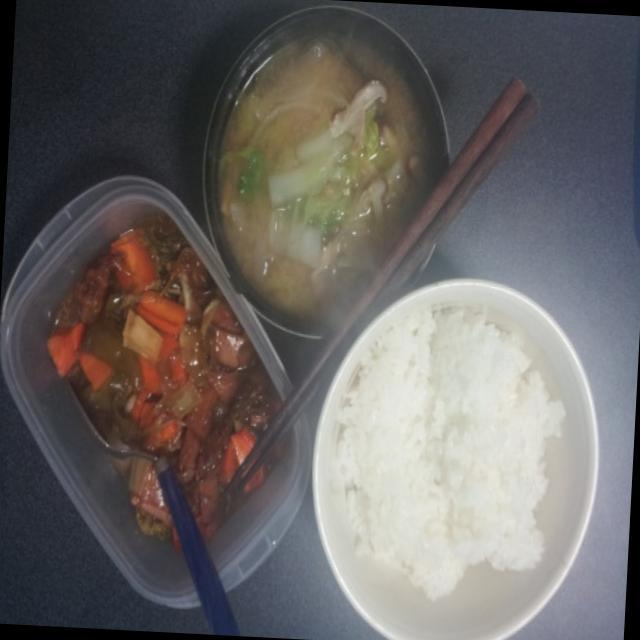Rice: (329, 311, 562, 604)
